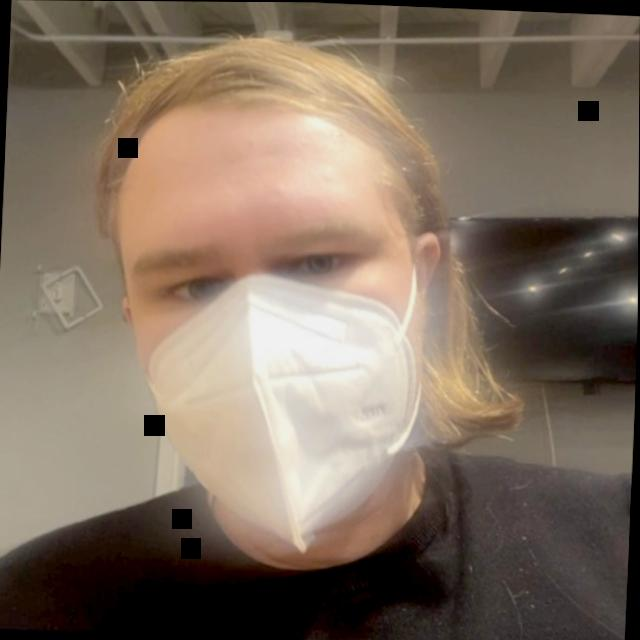Mask: (82, 14, 521, 590)
